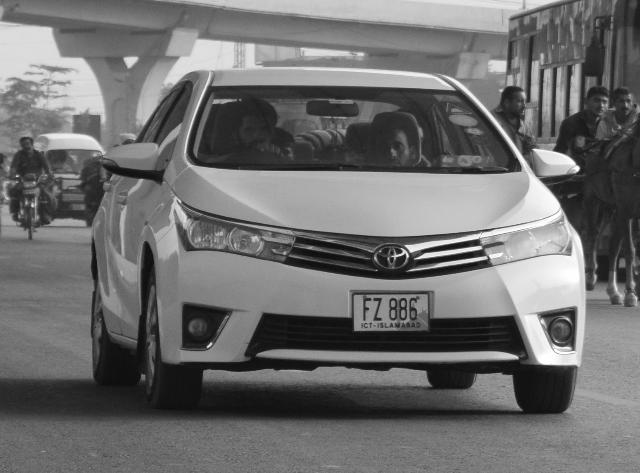Number: (358, 296, 428, 321)
